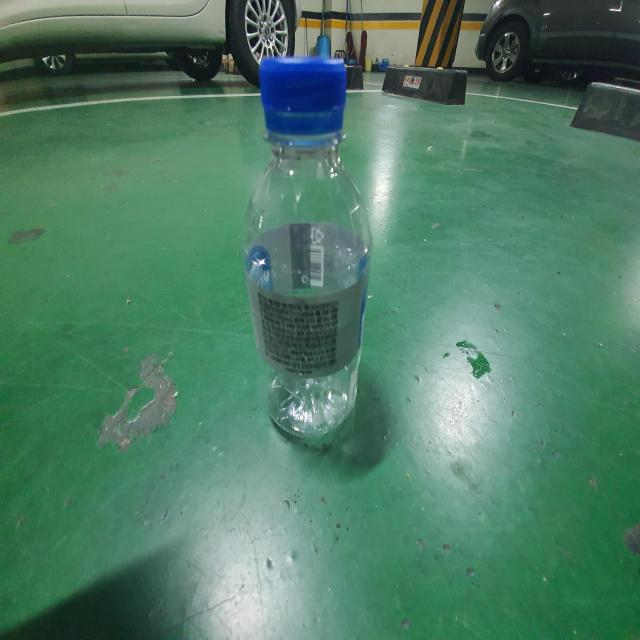plastic: (243, 56, 372, 438)
